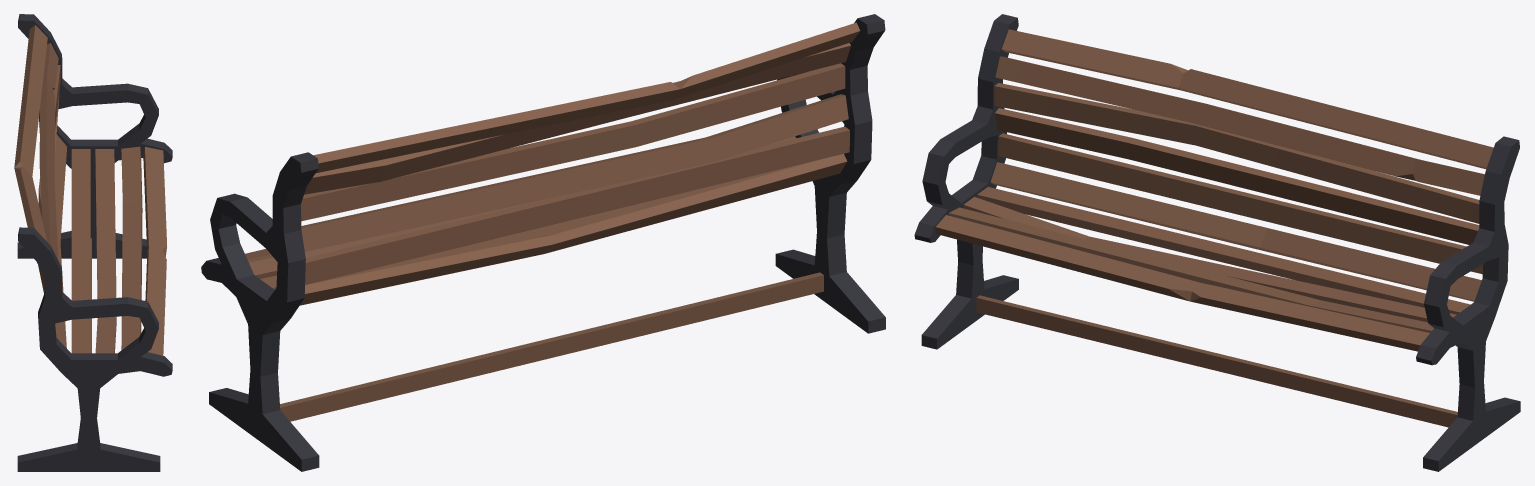
Rendered from bench_09.fbx.
The picture shows the model from 3 angles, left to right: view 1: azimuth 30°, elevation 25°; view 2: azimuth 150°, elevation 25°; view 3: azimuth 270°, elevation 25°; orthographic projection. The views are drawn at different scales.
Parts seen in each view (by area): view 1: Bench_9; view 2: Bench_9; view 3: Bench_9.
Boxes of the visible parts, left/top/right/bottom form: Bench_9: left=14, top=14, right=172, bottom=471; Bench_9: left=201, top=14, right=885, bottom=471; Bench_9: left=914, top=14, right=1520, bottom=471.
Size of the model in its own units: 0.3076 by 0.2045 by 0.4118.
Materials: 1 (1 with a texture image).
